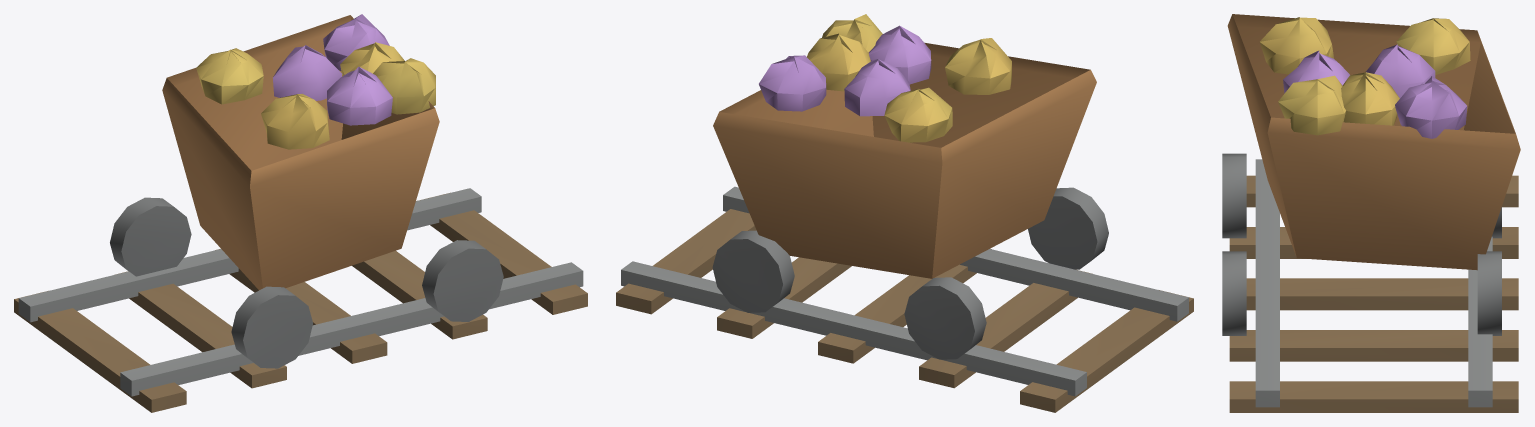
Rendered from cen_valak_vagonete_2.glb.
3 renders of one model, left to right at view 1: azimuth 30°, elevation 25°; view 2: azimuth 150°, elevation 25°; view 3: azimuth 270°, elevation 25°, orthographic. The views are drawn at different scales.
Visible parts, largest first — view 1: vagonete; view 2: vagonete; view 3: vagonete.
Part boxes in pixels (x1,y1,x2,y2): vagonete: (14, 14, 587, 412); vagonete: (616, 14, 1193, 412); vagonete: (1222, 14, 1520, 412).
Bounding box in the file's own units: 1.8 × 0.9698 × 0.9822.
